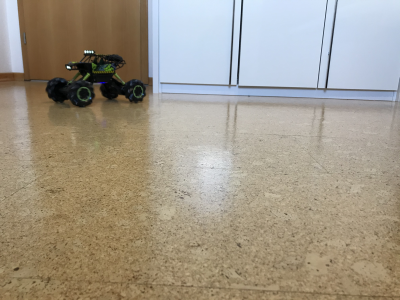remote control car: (44, 48, 147, 109)
